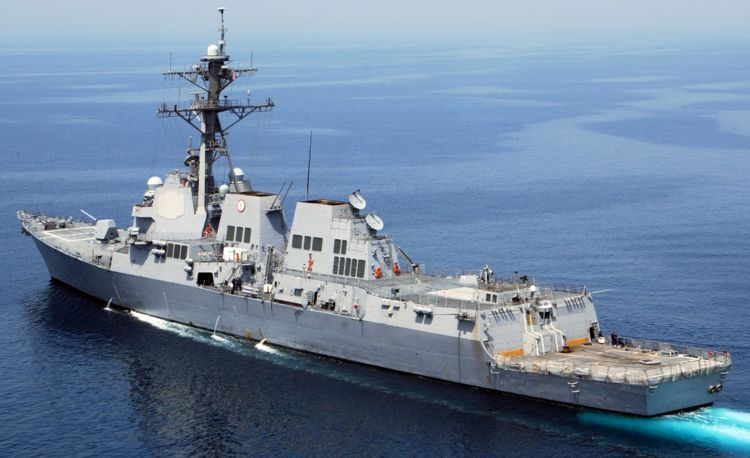warship: (16, 1, 736, 425)
